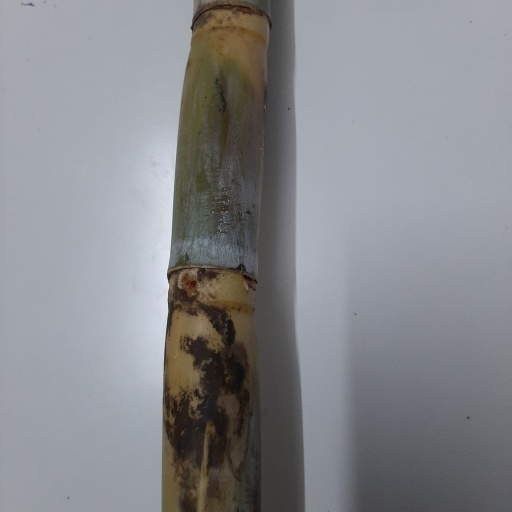Damage_Bud: (179, 270, 203, 301)
